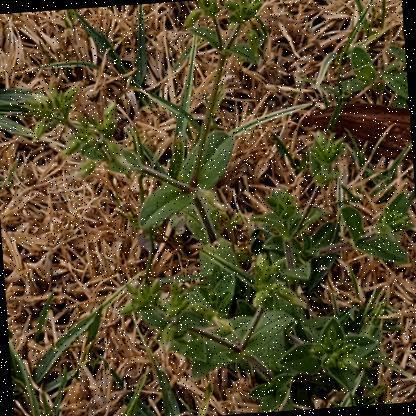Weeds: (17, 0, 415, 415), (345, 34, 410, 121)
